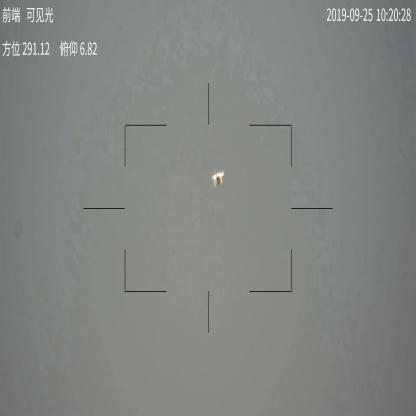uav: (208, 168, 225, 188)
